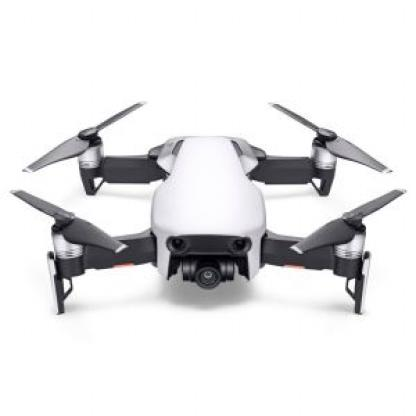drone: (4, 96, 405, 318)
